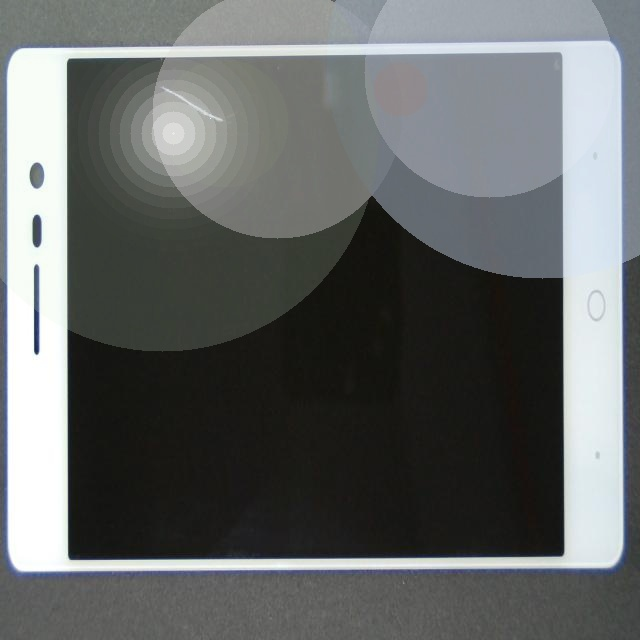scratch: (38, 43, 265, 187)
